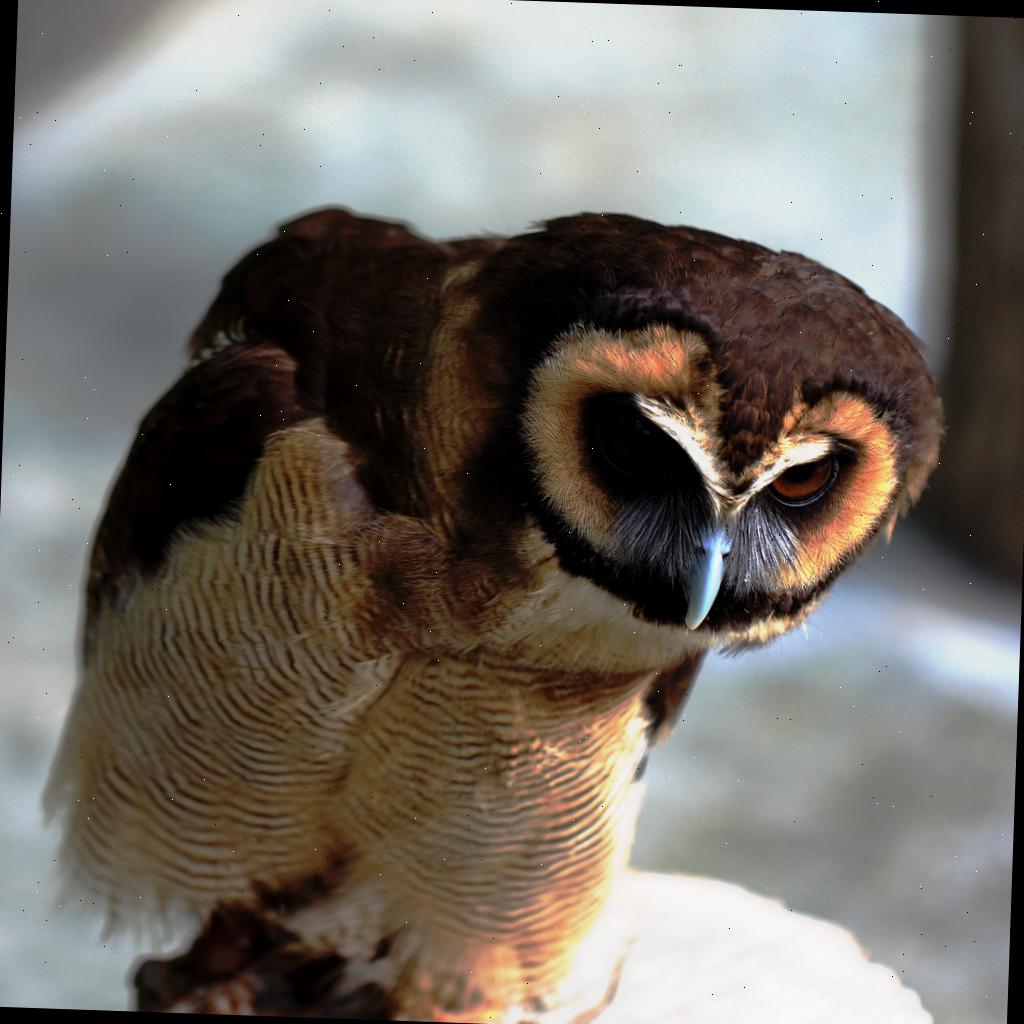Owl: (28, 183, 960, 1024)
